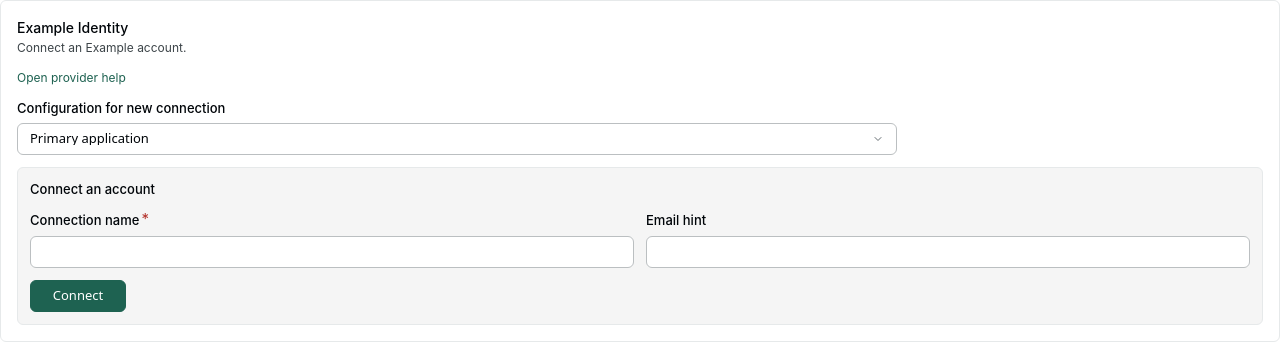
Test: ExtensionOAuthSetup › shows a configuration selector only when multiple ready configurations exist
Click the dropdown named "Configuration for new connection". click: coordinates (89, 138)
box: x1=17 y1=123 x2=897 y2=155
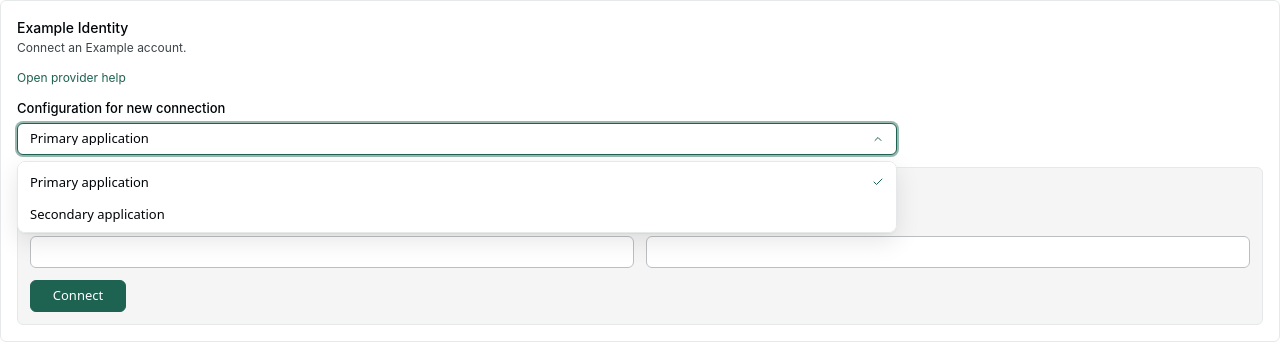
Check: the number of options is 2, box x1=22 y1=166 x2=892 y2=198; x1=22 y1=198 x2=892 y2=230
